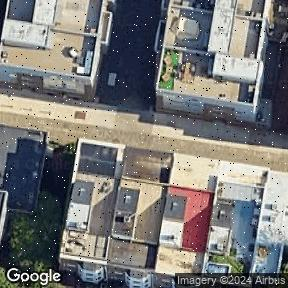vegetation: (0, 190, 63, 288)
